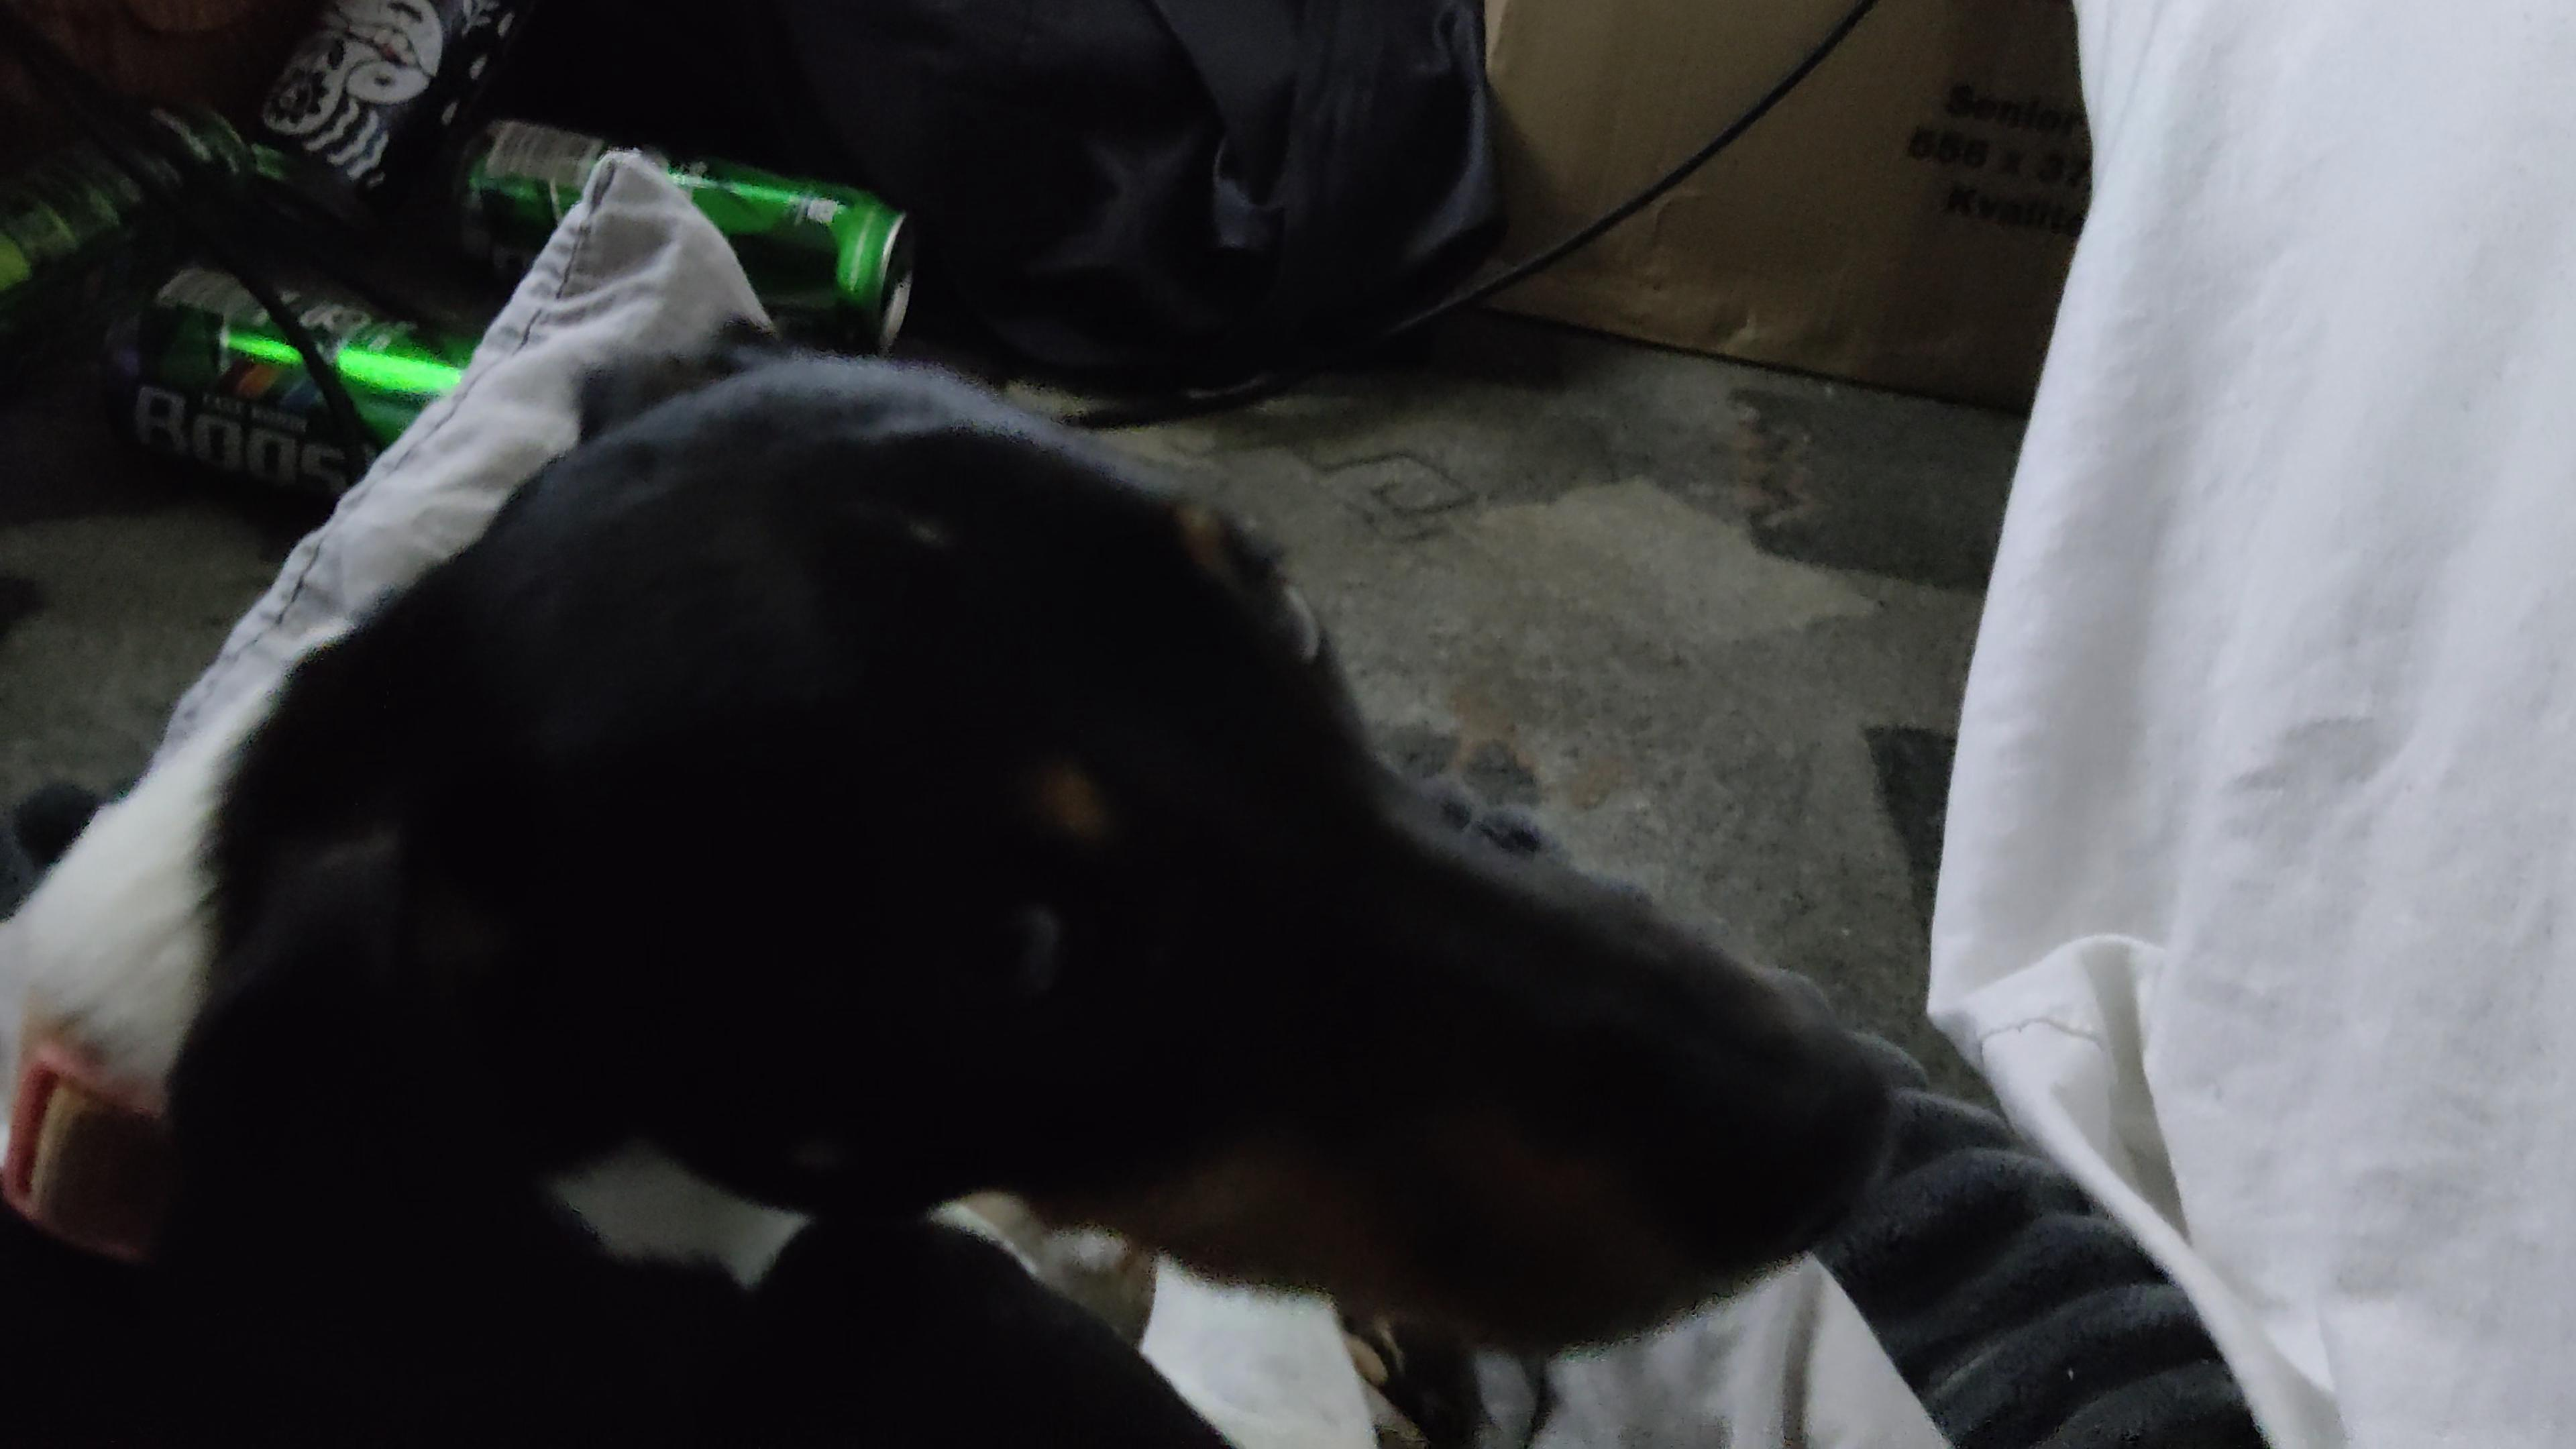Dog: (0, 327, 1918, 1449)
